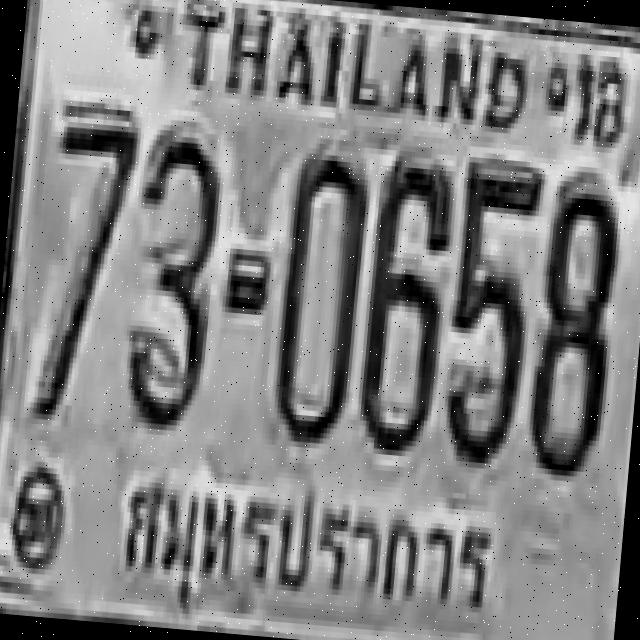0: (268, 144, 370, 443)
3: (118, 123, 224, 427)
5: (438, 156, 541, 466)
6: (354, 148, 453, 452)
7: (29, 96, 140, 422)
8: (524, 166, 620, 475)
SamutPrakan: (105, 462, 501, 640)
